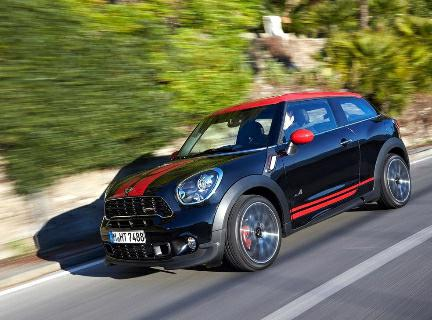MINI-JCWPACEMAN: (88, 86, 420, 261)
